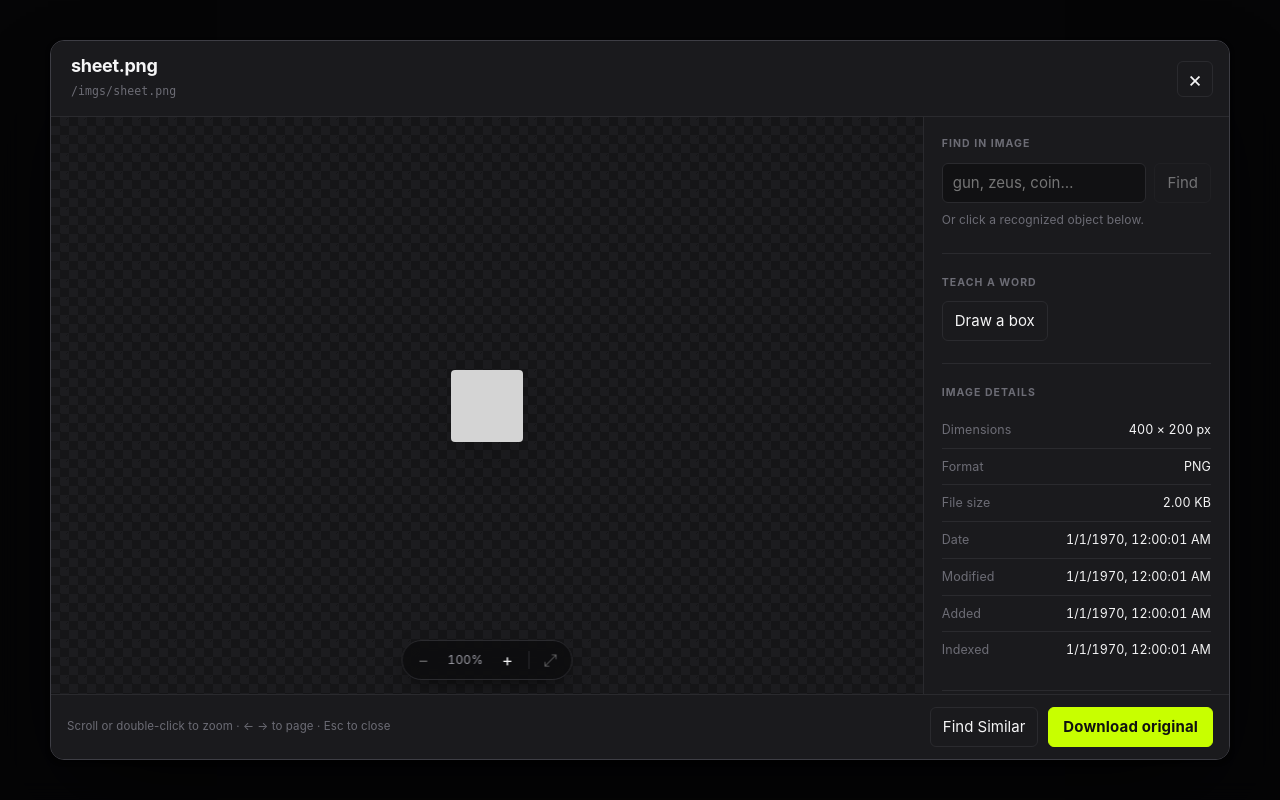
ImageModal boxes › reports when the word is not in the image
The width and height of the screenshot is (1280, 800).
Type "zeus" into the field named "Word to find in image".
click(1044, 183); type("zeus")  # box [942,163,1146,203]
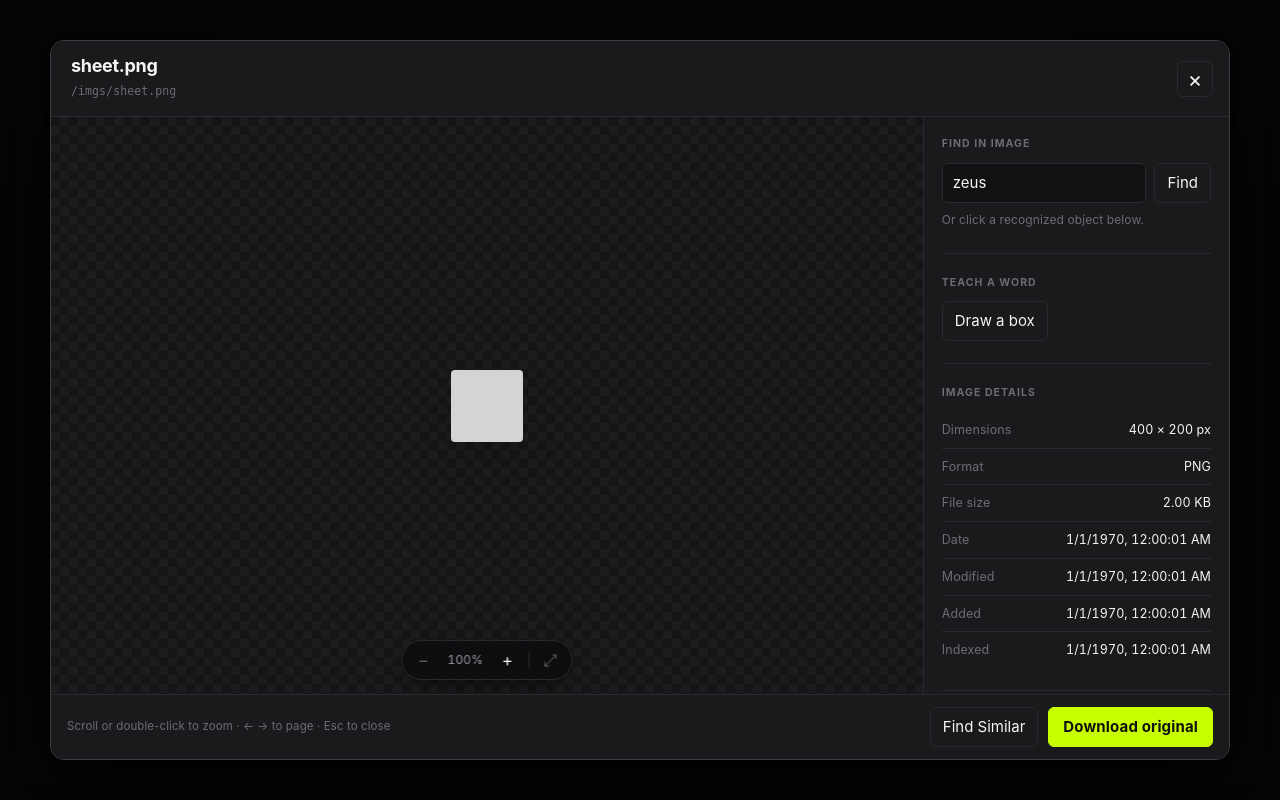
Click the button "Find".
click(1183, 183)  # box [1154,163,1211,203]
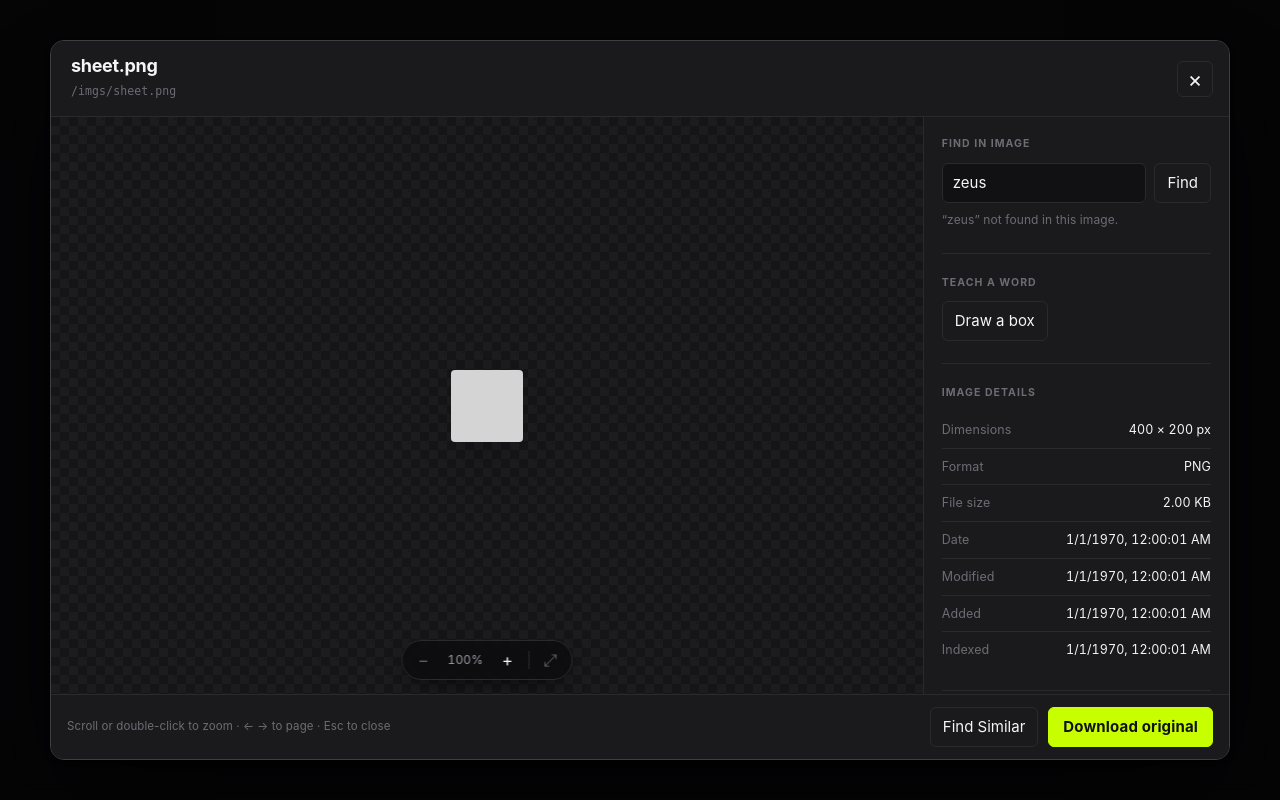
Expected: the text "“zeus” not found in this image." is shown, [942,212,1118,227]
